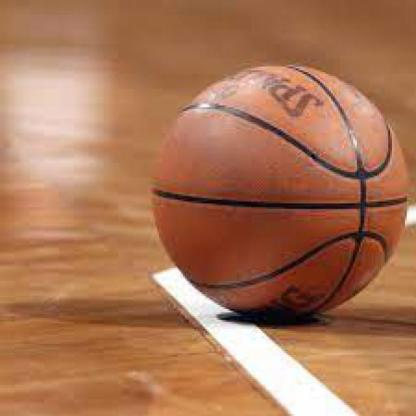basketball: (151, 65, 407, 320)
